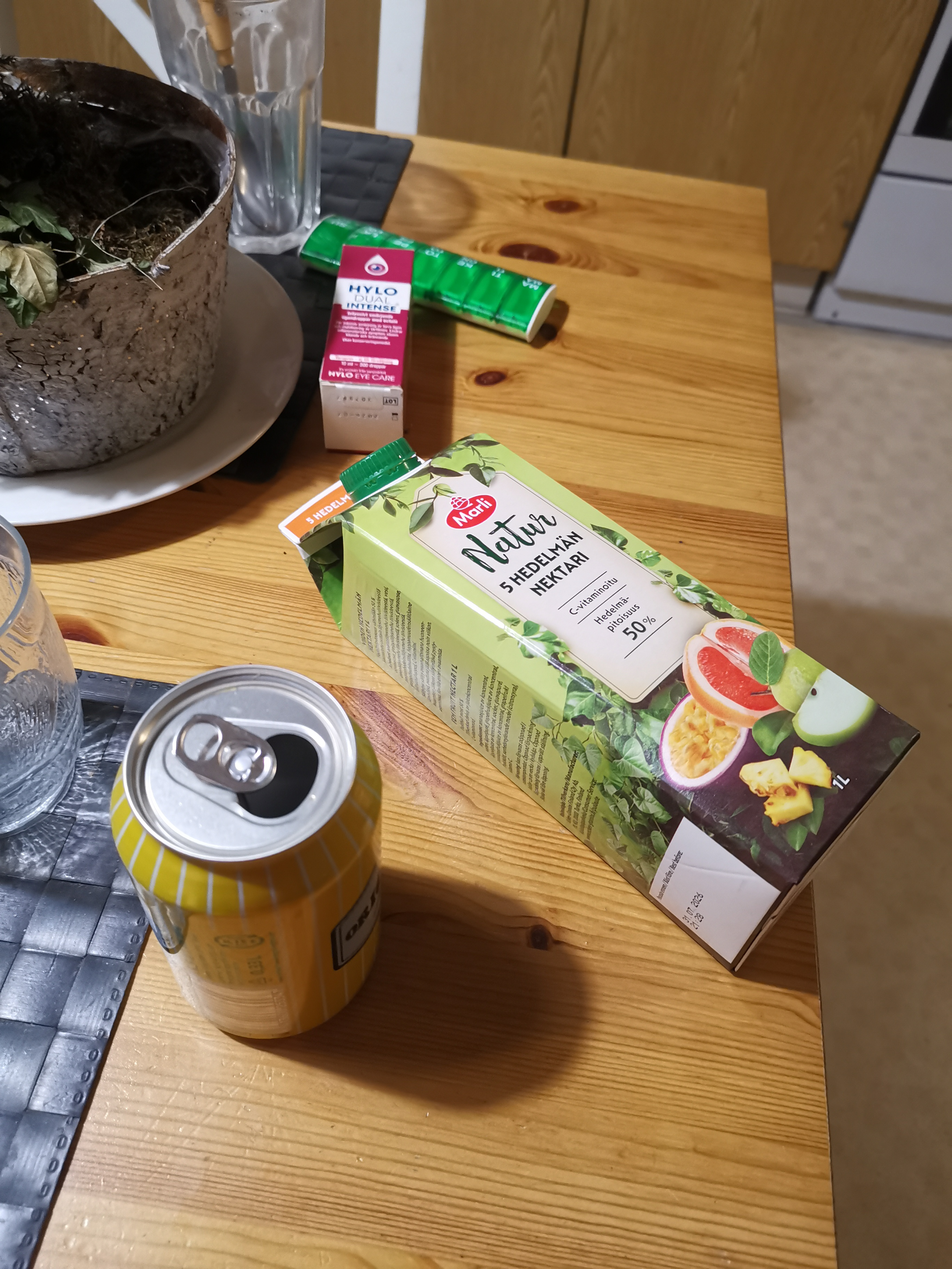Dryckeskartong: (277, 428, 925, 976)
Pantburk: (105, 661, 385, 1043)
